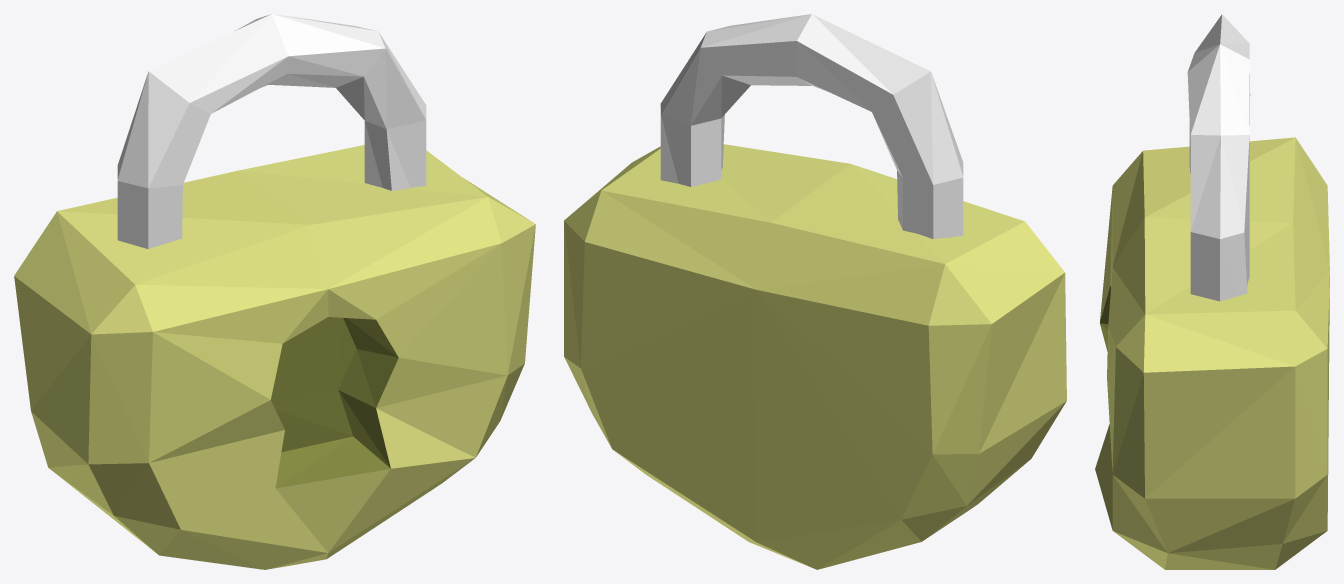
The model's file is cadena 1.fbx.
The picture shows the model from 3 angles, left to right: view 1: azimuth 30°, elevation 25°; view 2: azimuth 150°, elevation 25°; view 3: azimuth 270°, elevation 25°; orthographic projection. The views are drawn at different scales.
Parts seen in each view (by area): view 1: Cube, Torus; view 2: Cube, Torus; view 3: Cube, Torus.
Boxes of the visible parts, bbox=[...] form: Cube: bbox=[14, 145, 535, 569]; Torus: bbox=[117, 14, 426, 249]; Cube: bbox=[564, 144, 1066, 569]; Torus: bbox=[660, 14, 963, 238]; Cube: bbox=[1095, 137, 1329, 569]; Torus: bbox=[1187, 14, 1250, 301].
Bounding box in the file's own units: 151 × 174 × 72.56.
